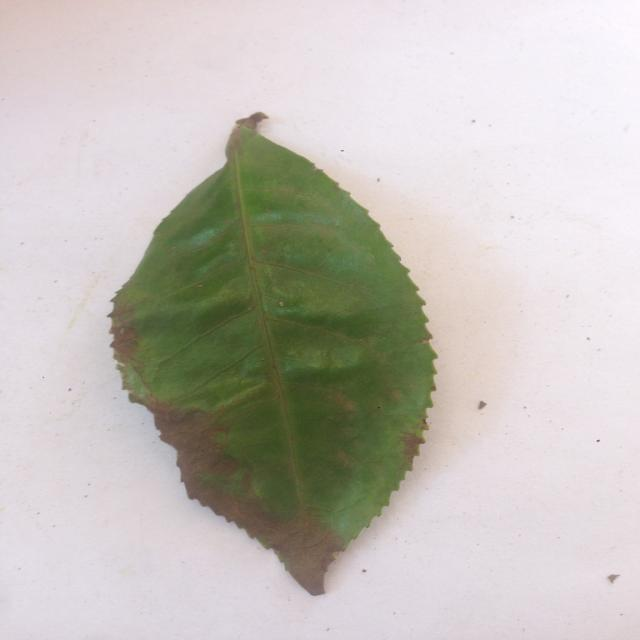Brown Blight: (101, 111, 441, 599)
